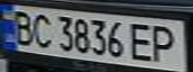3: (51, 12, 75, 53), (87, 17, 109, 56)
6: (106, 18, 130, 60)
8: (69, 16, 90, 55)
B: (6, 7, 39, 46)
C: (27, 11, 57, 48)
E: (127, 20, 160, 63)
P: (145, 21, 187, 64)
